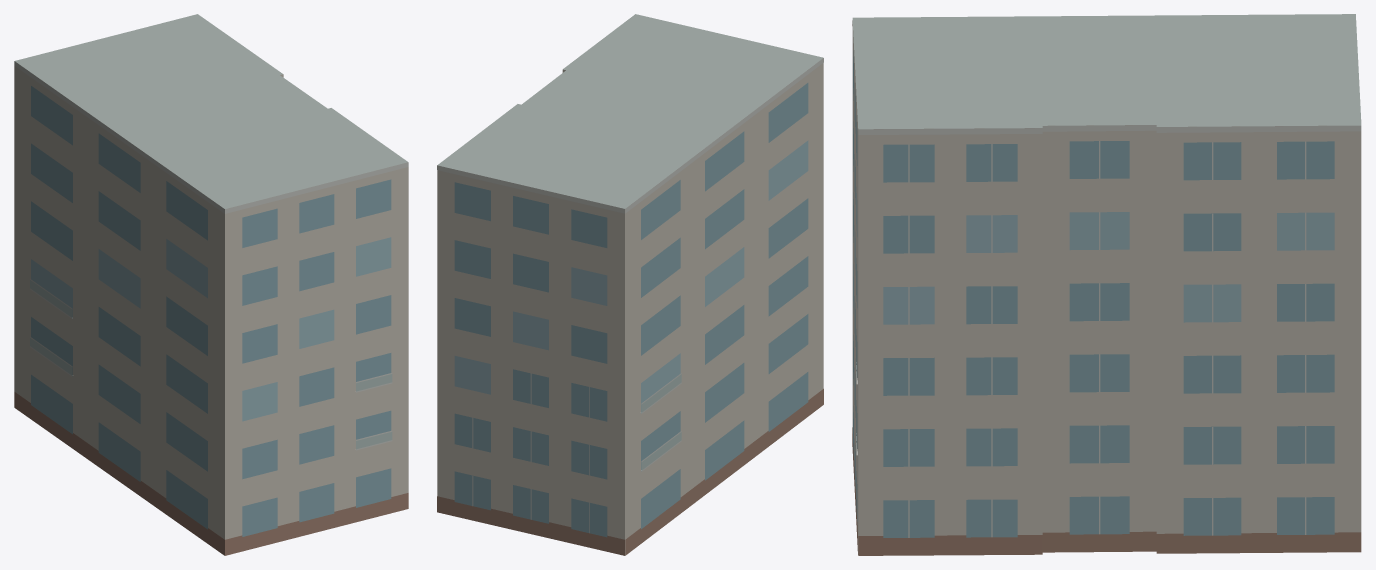
Rendered from survey-upis-33026907.glb.
3 views of the same model, side by side, from view 1: azimuth 30°, elevation 25°; view 2: azimuth 150°, elevation 25°; view 3: azimuth 270°, elevation 25° (orthographic). The views are drawn at different scales.
Parts seen in each view (by area): view 1: survey-upis-33026907.tmp; view 2: survey-upis-33026907.tmp; view 3: survey-upis-33026907.tmp.
Part boxes in pixels (x1,y1,x2,y2): survey-upis-33026907.tmp: [14, 14, 408, 555]; survey-upis-33026907.tmp: [437, 14, 823, 555]; survey-upis-33026907.tmp: [852, 14, 1361, 555].
Bounding box in the file's own units: 10.3 × 17.75 × 19.2.
